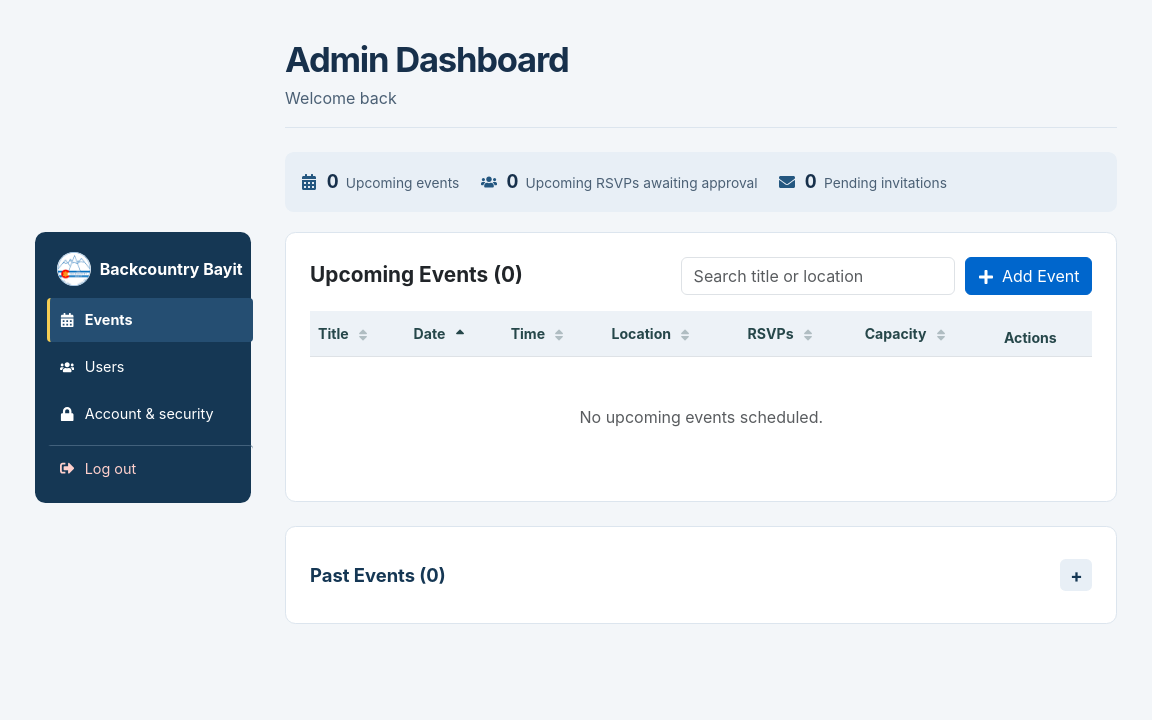
Test case: invitation controls respect admin permission (true)
What coordinates should you click on to do the following:
click the button "Users"
I would click on:
 (150, 367)
Its box is top-left (46, 345), bottom-right (253, 389).
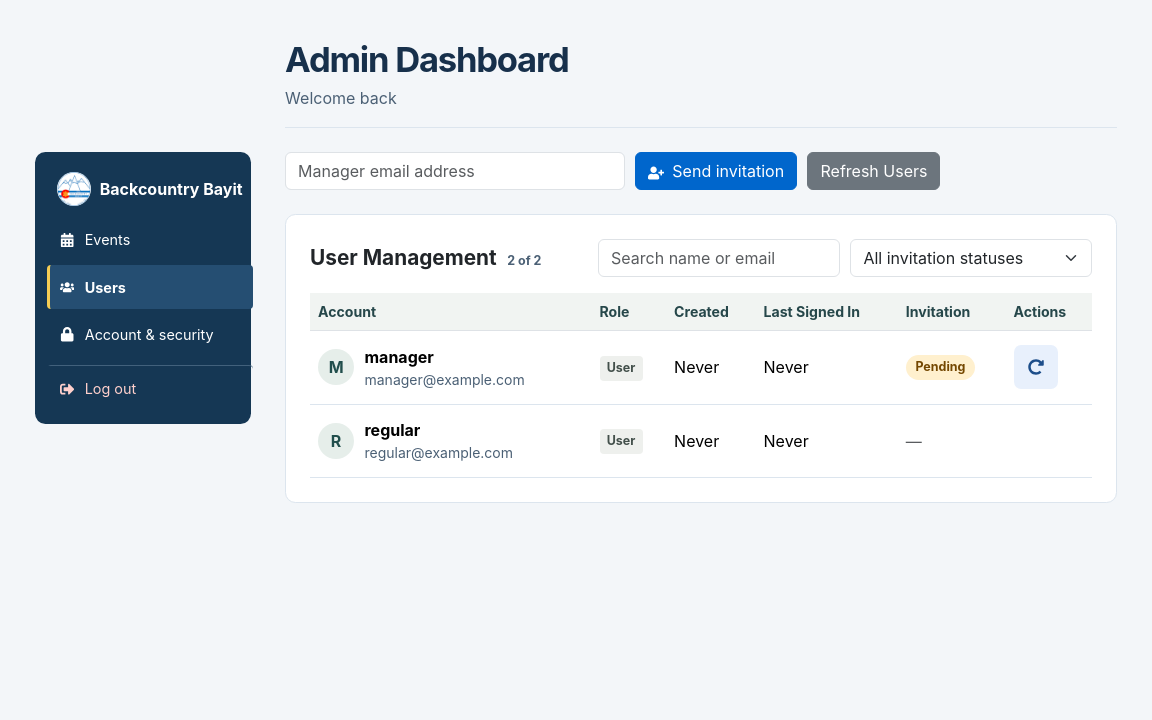
expect the text "Pending" is shown: met, box top-left (906, 355), bottom-right (975, 380)
expect the text "manager@example.com" is shown: met, box top-left (364, 369), bottom-right (525, 390)
expect the number of buttons named "Resend Invitation" is 1: met
What coordinates should you click on to do the following:
click the button named "Resend Invitation"
I would click on:
 (1036, 367)
Its box is top-left (1014, 345), bottom-right (1058, 389).
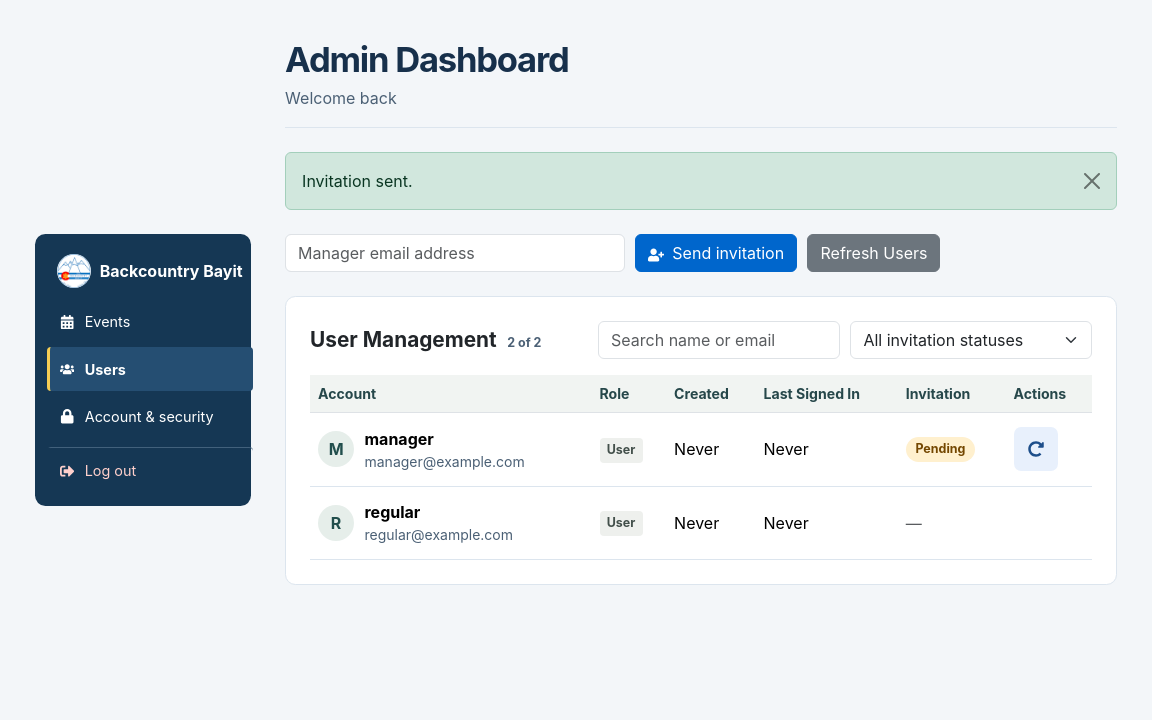
expect the button named "Resend Invitation" is enabled: met, box top-left (1014, 427), bottom-right (1058, 471)
expect the text "Invitation sent." is shown: met, box top-left (285, 152), bottom-right (1118, 210)
